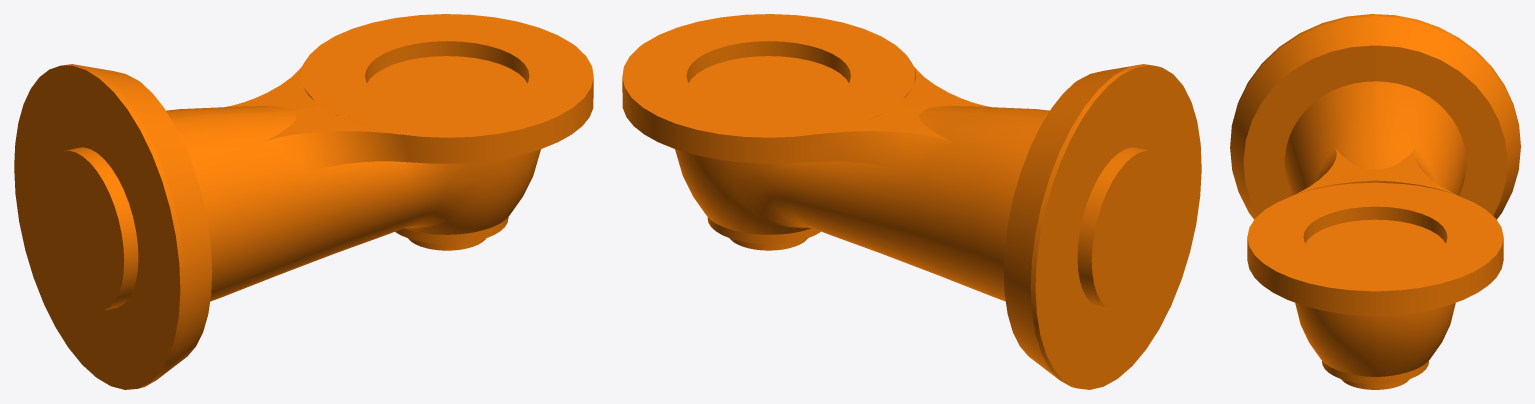
The picture shows the model from 3 angles, left to right: view 1: azimuth 30°, elevation 25°; view 2: azimuth 150°, elevation 25°; view 3: azimuth 270°, elevation 25°; orthographic projection. The views are drawn at different scales.
Parts seen in each view (by area): view 1: COMPOUND030; view 2: COMPOUND030; view 3: COMPOUND030.
Part boxes in pixels (<box>): COMPOUND030: <box>14,14,593,389</box>; COMPOUND030: <box>622,14,1201,389</box>; COMPOUND030: <box>1230,14,1520,389</box>.
Bounding box in the file's own units: 0.3446 × 0.202 × 0.202.
